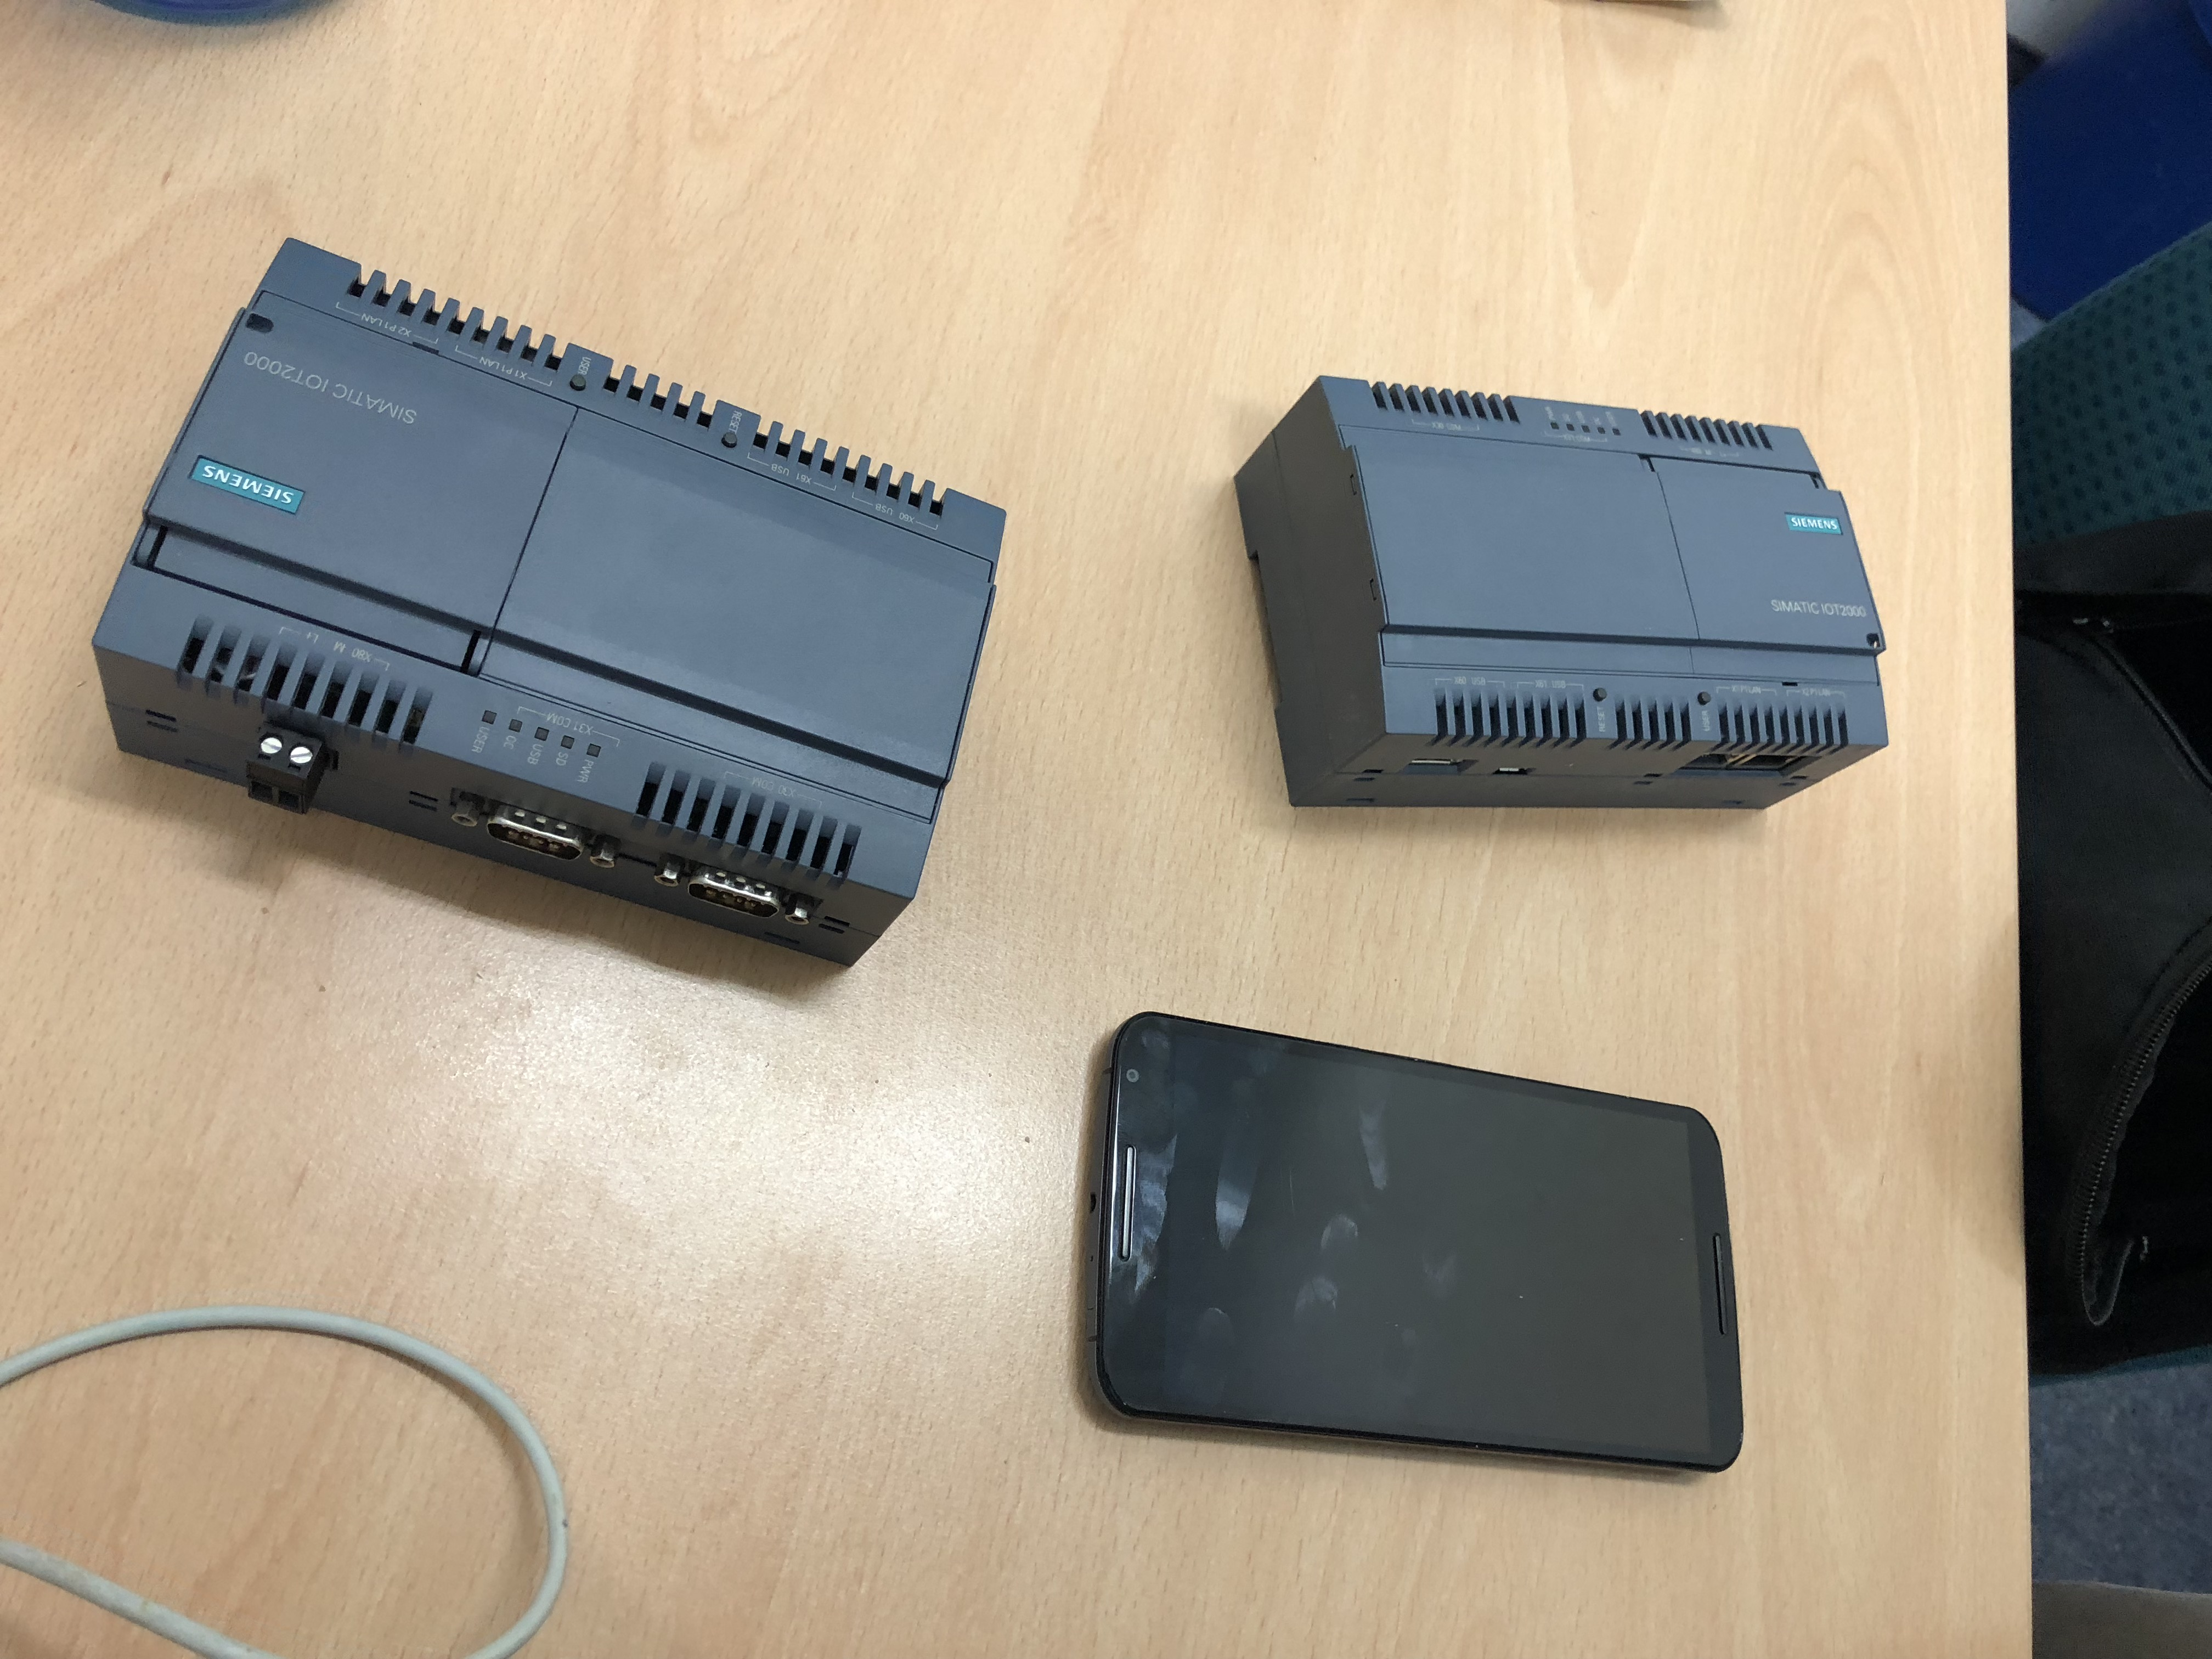device: (91, 237, 1008, 969), (1233, 375, 1890, 810)
